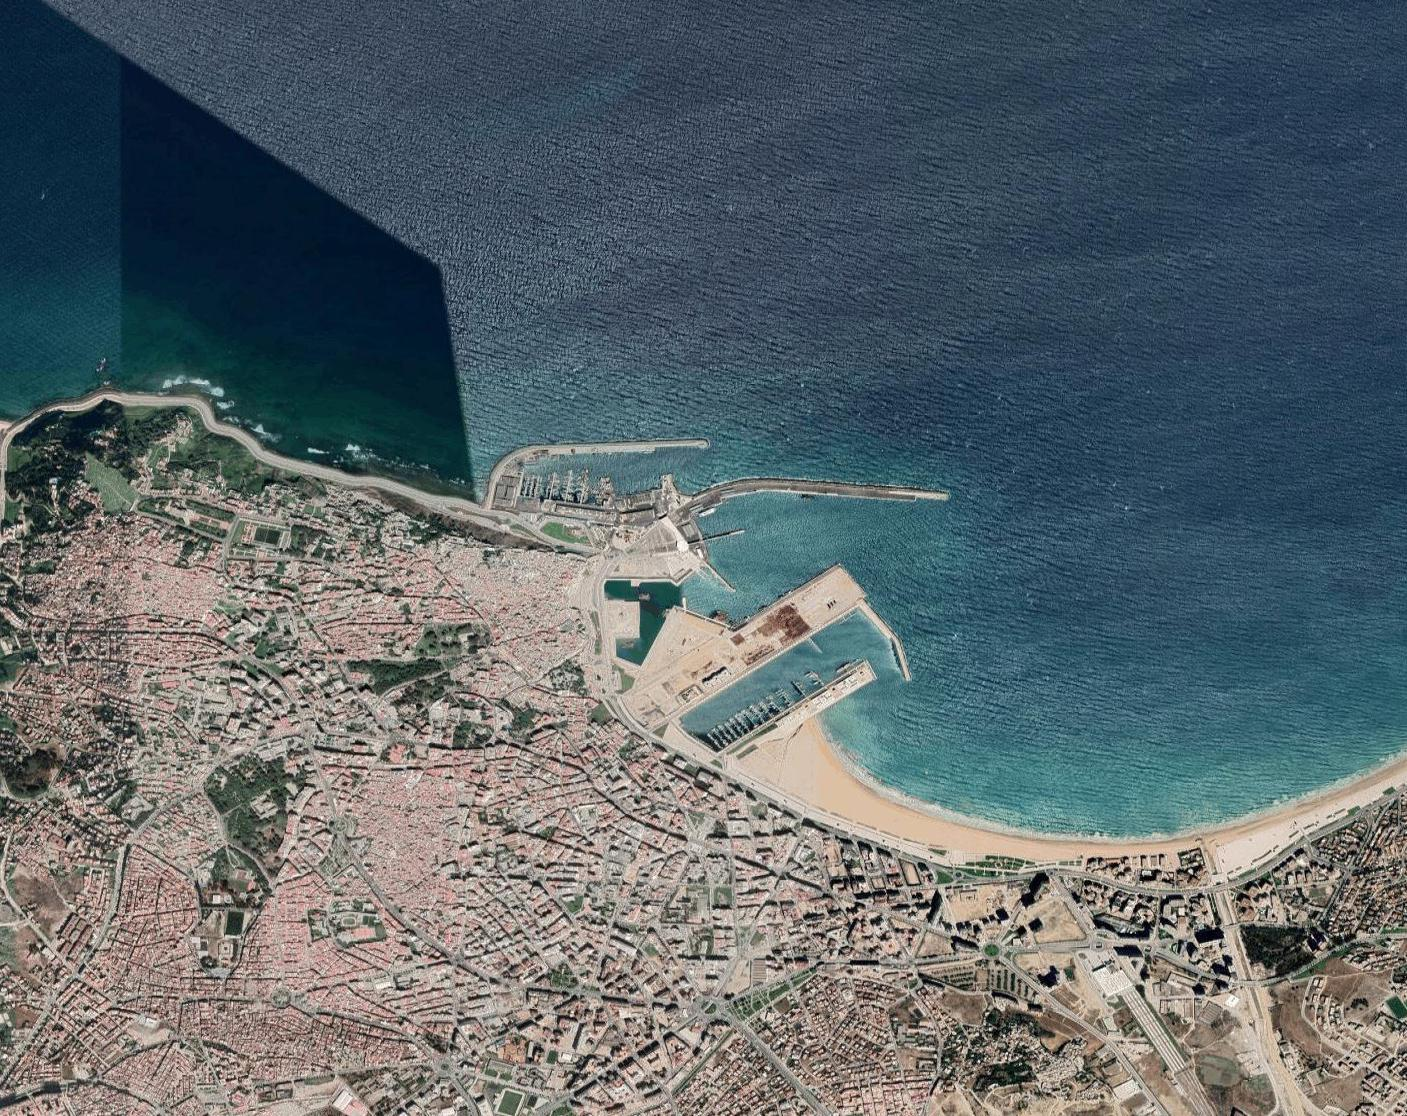harbor: (497, 421, 950, 552), (673, 553, 893, 740)
